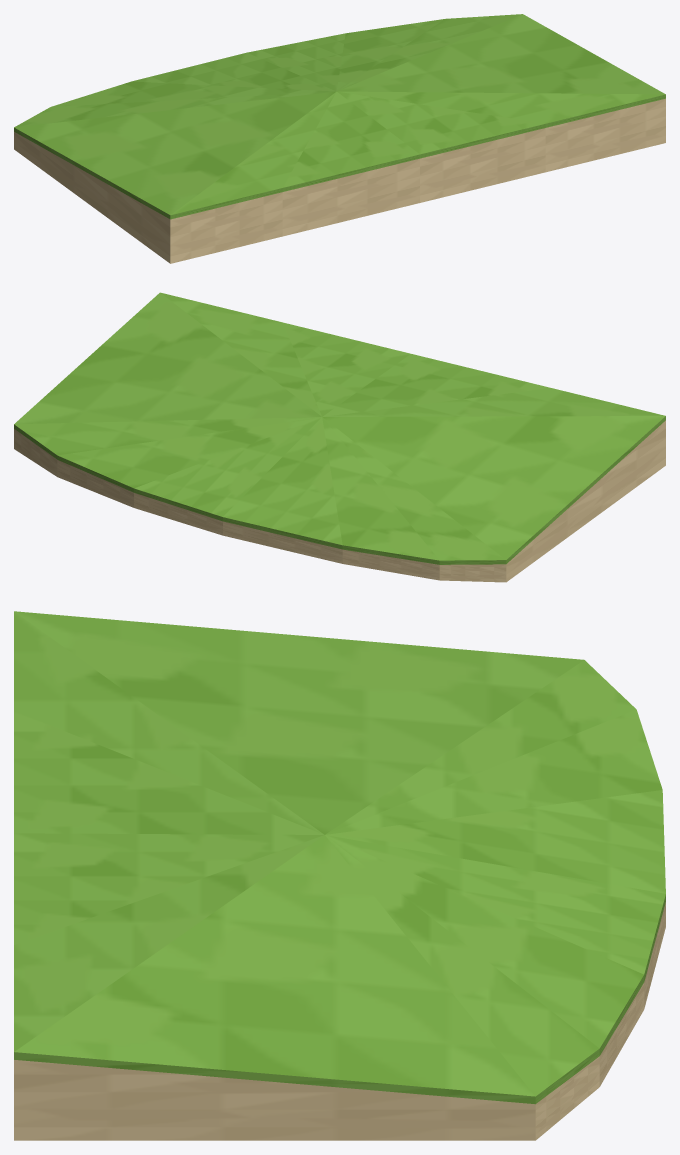
The model's file is grassy_bank.glb.
3 renders of one model, top to bottom at view 1: azimuth 30°, elevation 25°; view 2: azimuth 150°, elevation 25°; view 3: azimuth 270°, elevation 25°, orthographic. The views are drawn at different scales.
Visible parts, largest first — view 1: beach_grassy_bank; view 2: beach_grassy_bank; view 3: beach_grassy_bank.
Boxes of the visible parts, <box> form: beach_grassy_bank: <box>14,14,665,263</box>; beach_grassy_bank: <box>14,292,665,582</box>; beach_grassy_bank: <box>14,611,665,1140</box>.
Bounding box in the file's own units: 8 × 0.75 × 5.
Materials: 2 (2 with a texture image).
